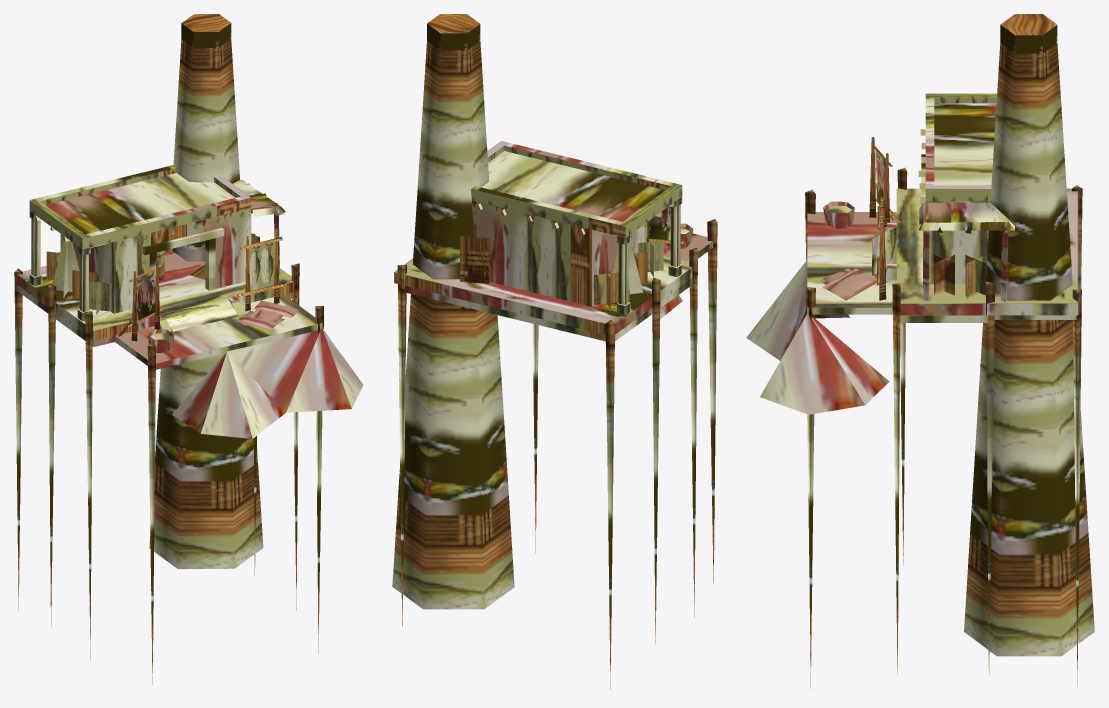
The model's file is dock_base.glb.
3 views of the same model, side by side, from view 1: azimuth 30°, elevation 25°; view 2: azimuth 150°, elevation 25°; view 3: azimuth 270°, elevation 25° (orthographic). The views are drawn at different scales.
Visible parts, largest first — view 1: MeshRoot; view 2: MeshRoot; view 3: MeshRoot.
Part boxes in pixels (bbox=[...]): MeshRoot: bbox=[14, 14, 363, 684]; MeshRoot: bbox=[392, 14, 717, 689]; MeshRoot: bbox=[746, 14, 1094, 688].
Bounding box in the file's own units: 6.89 × 15.78 × 7.58.
Materials: 1 (1 with a texture image).
